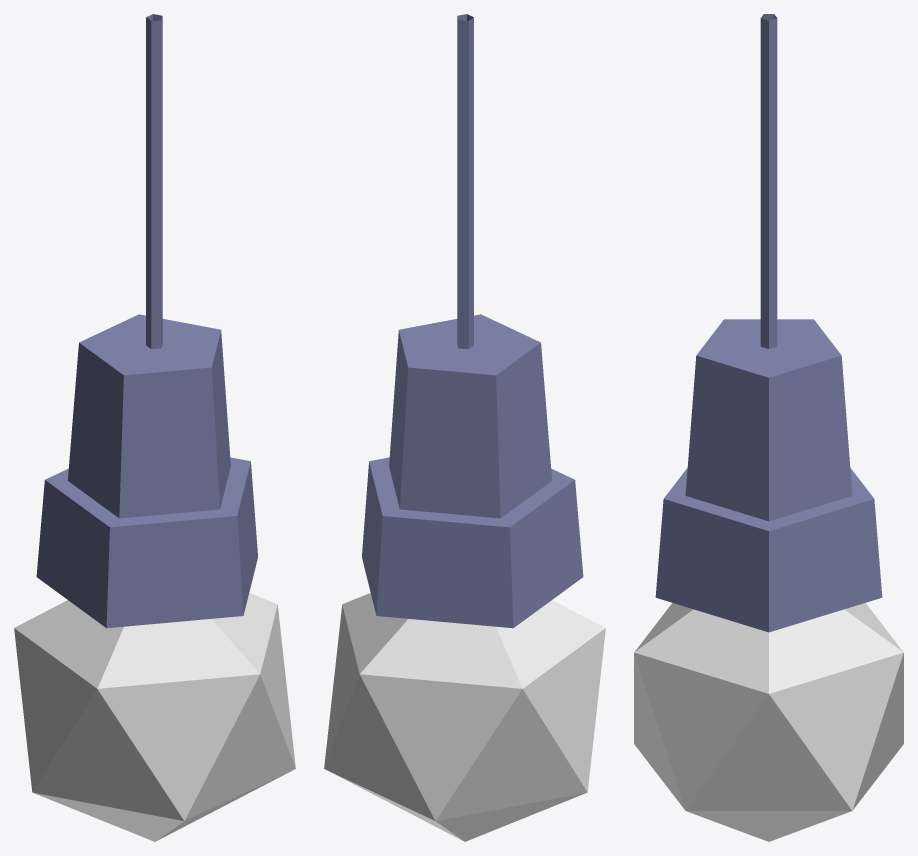
Rendered from Bombita_de_Luz.fbx.
3 views of the same model, side by side, from view 1: azimuth 30°, elevation 25°; view 2: azimuth 150°, elevation 25°; view 3: azimuth 270°, elevation 25° (orthographic).
Visible parts, largest first — view 1: Cuerpo Luz; view 2: Cuerpo Luz; view 3: Cuerpo Luz.
Boxes of the visible parts, left/top/right/bottom form: Cuerpo Luz: left=14, top=14, right=295, bottom=841; Cuerpo Luz: left=324, top=14, right=605, bottom=841; Cuerpo Luz: left=634, top=14, right=903, bottom=841.
Bounding box in the file's own units: 14.31 × 45.93 × 13.61.
